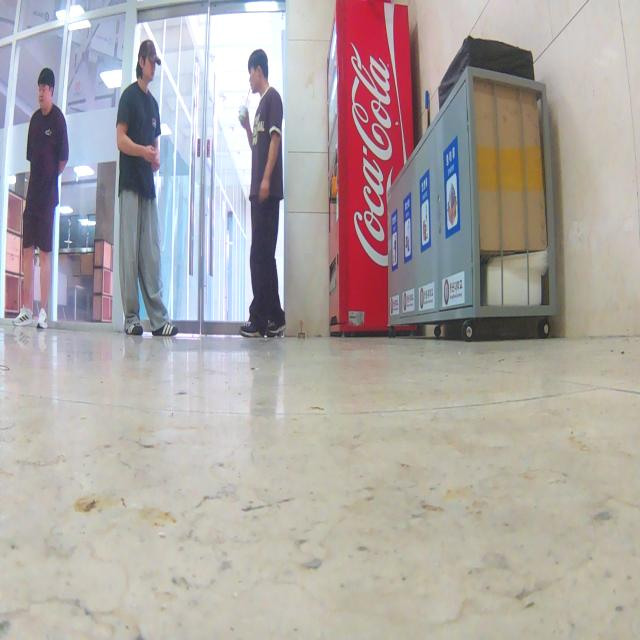target: (296, 319, 306, 340)
